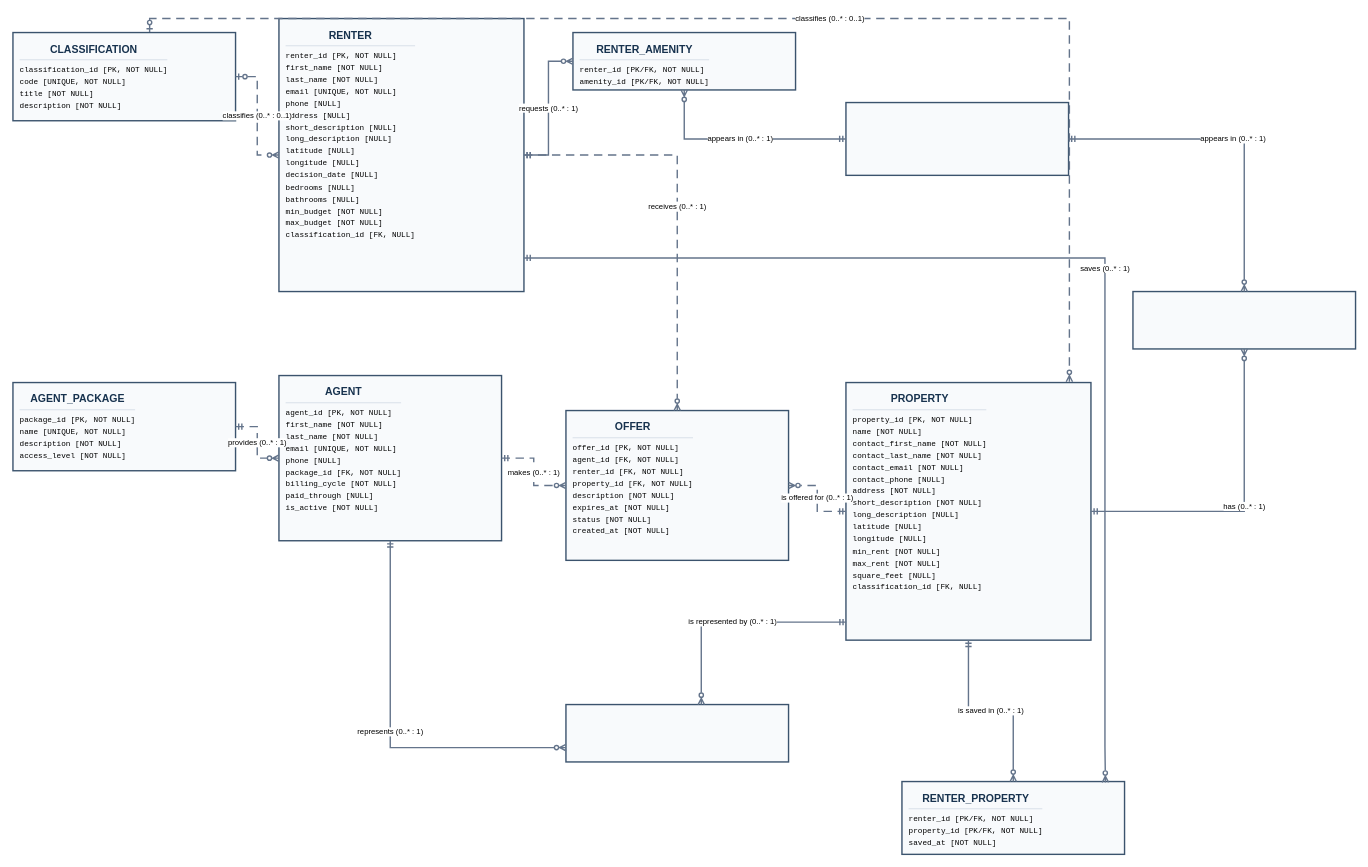
Some shapes in this 1368 by 867 pixel diagram are drawn without their labels. Here are the shapes that lost their labels. From the top down, the centre of each, then its label:
the point at 957,139: AMENITY amenity_id [PK, NOT NULL] name [UNIQUE, NOT NULL] description [NOT NULL]
the point at 1244,319: PROPERTY_AMENITY property_id [PK/FK, NOT NULL] amenity_id [PK/FK, NOT NULL]
the point at 677,733: PROPERTY_AGENT property_id [PK/FK, NOT NULL] agent_id [PK/FK, NOT NULL]
